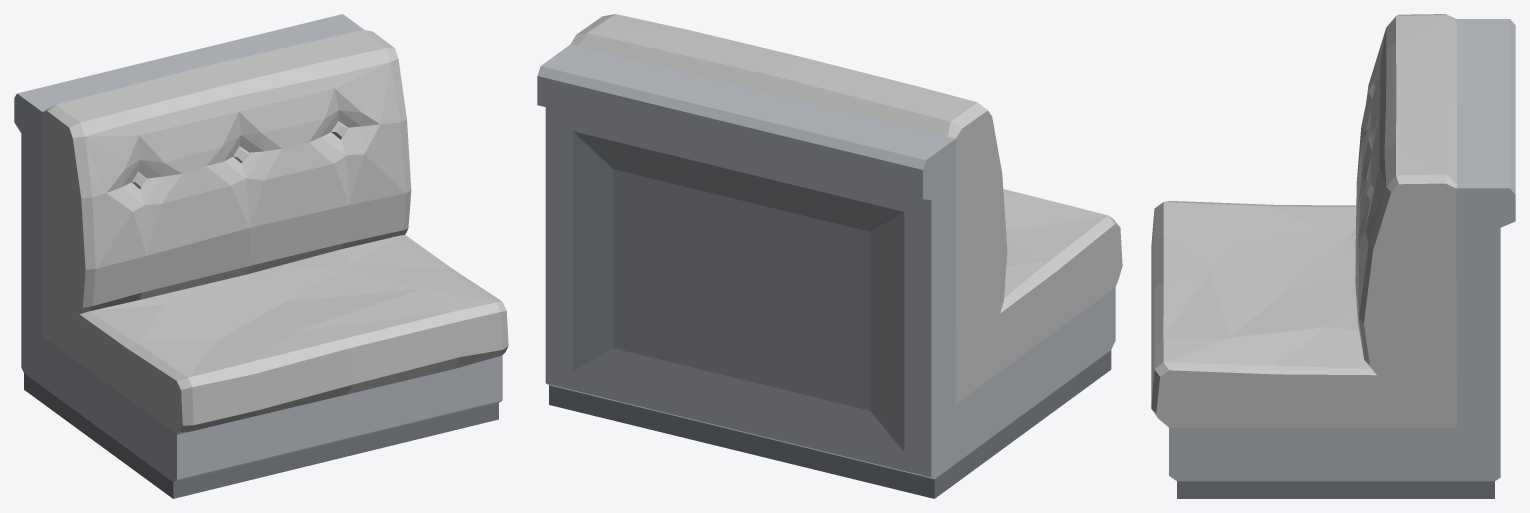
Rendered from SM_Prop_Sofa_03_Straight_02.fbx.
3 renders of one model, left to right at view 1: azimuth 30°, elevation 25°; view 2: azimuth 150°, elevation 25°; view 3: azimuth 270°, elevation 25°, orthographic. The views are drawn at different scales.
Parts seen in each view (by area): view 1: SM_Prop_Sofa_03_Straight_02; view 2: SM_Prop_Sofa_03_Straight_02; view 3: SM_Prop_Sofa_03_Straight_02.
Boxes of the visible parts, x1,y1,x2,y2 form: SM_Prop_Sofa_03_Straight_02: (14,14,508,498); SM_Prop_Sofa_03_Straight_02: (537,14,1122,498); SM_Prop_Sofa_03_Straight_02: (1151,14,1515,498).
Bounding box in the file's own units: 125 × 111 × 114.
